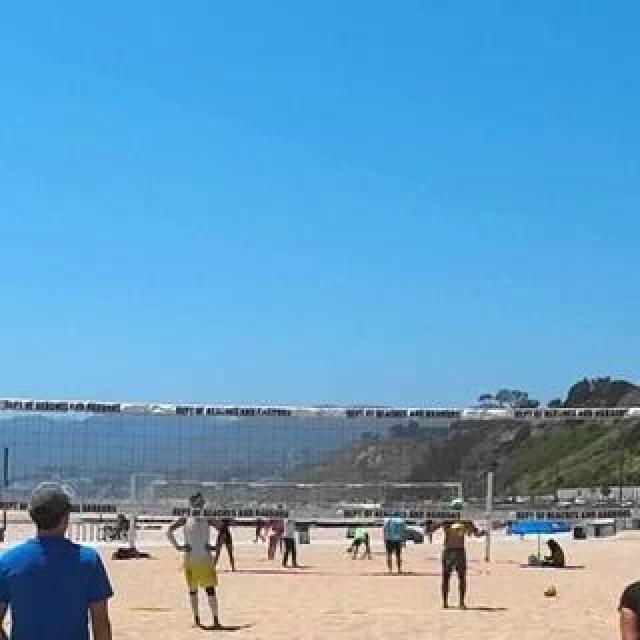volleyball: (449, 521, 465, 539)
